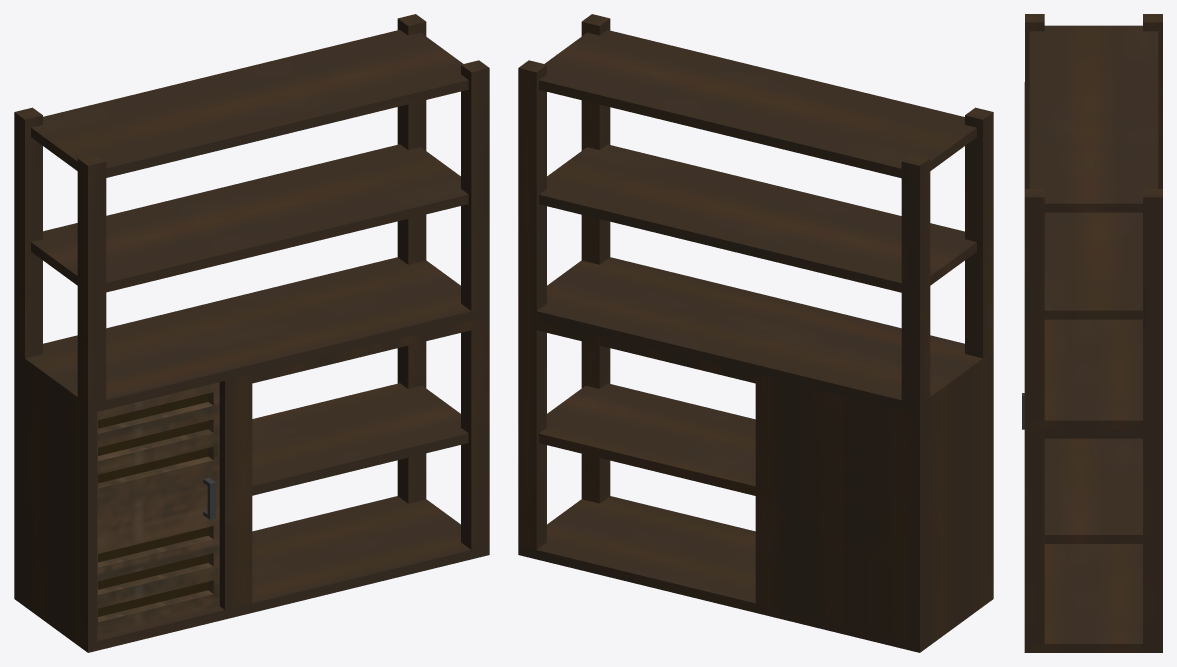
Rendered from shelf_finalized_01.fbx.
The picture shows the model from 3 angles, left to right: view 1: azimuth 30°, elevation 25°; view 2: azimuth 150°, elevation 25°; view 3: azimuth 270°, elevation 25°; orthographic projection. The views are drawn at different scales.
Visible parts, largest first — view 1: standing_shelf; view 2: standing_shelf; view 3: standing_shelf.
Boxes of the visible parts, left/top/right/bottom form: standing_shelf: left=14, top=14, right=489, bottom=652; standing_shelf: left=518, top=14, right=993, bottom=652; standing_shelf: left=1022, top=14, right=1162, bottom=652.
Bounding box in the file's own units: 4.4 × 5.1 × 1.43.
Materials: 4 (4 with a texture image).
